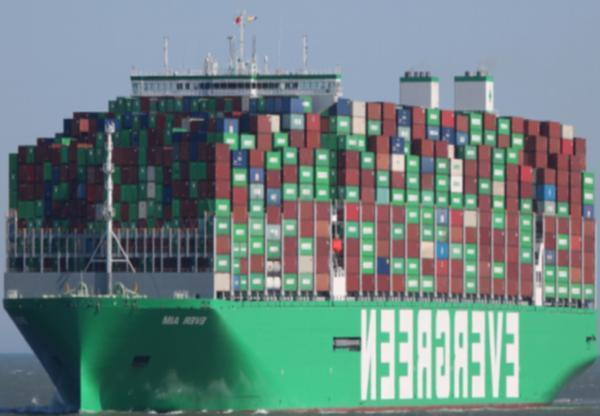Container Ship: (1, 14, 599, 414)
